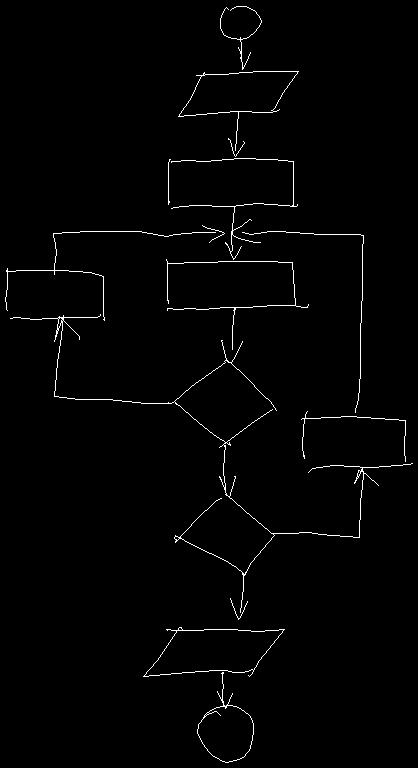arrow: (231, 219, 363, 412), (54, 315, 170, 403), (53, 225, 224, 274), (272, 467, 378, 537), (221, 308, 242, 362), (225, 206, 241, 259), (219, 445, 235, 497), (230, 572, 247, 619), (228, 112, 244, 156), (217, 672, 232, 708), (238, 37, 250, 69)
connection: (197, 705, 253, 762), (220, 6, 261, 39)
data: (143, 627, 284, 676), (178, 71, 298, 116)
decision: (168, 360, 276, 447), (174, 494, 274, 575)
process: (166, 259, 308, 310), (301, 411, 412, 472), (168, 158, 297, 208), (5, 268, 104, 320)
